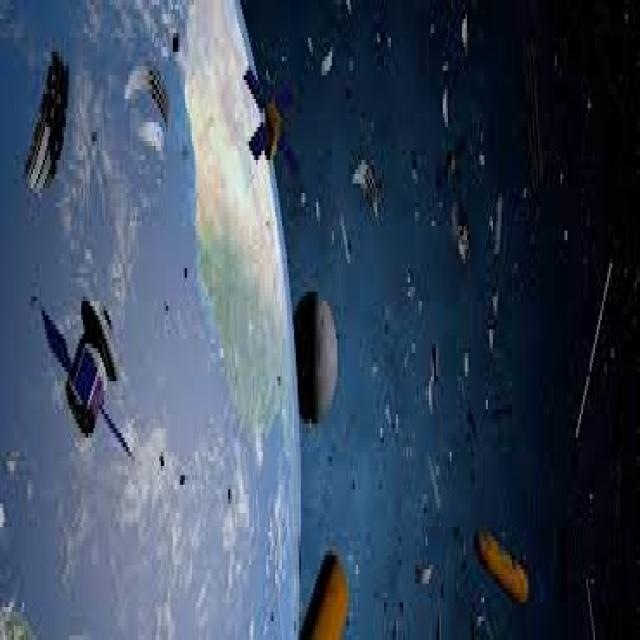large_debris: (235, 4, 560, 640), (577, 222, 632, 640), (121, 24, 187, 185), (21, 34, 77, 220)
medium_debris: (30, 243, 149, 510)
